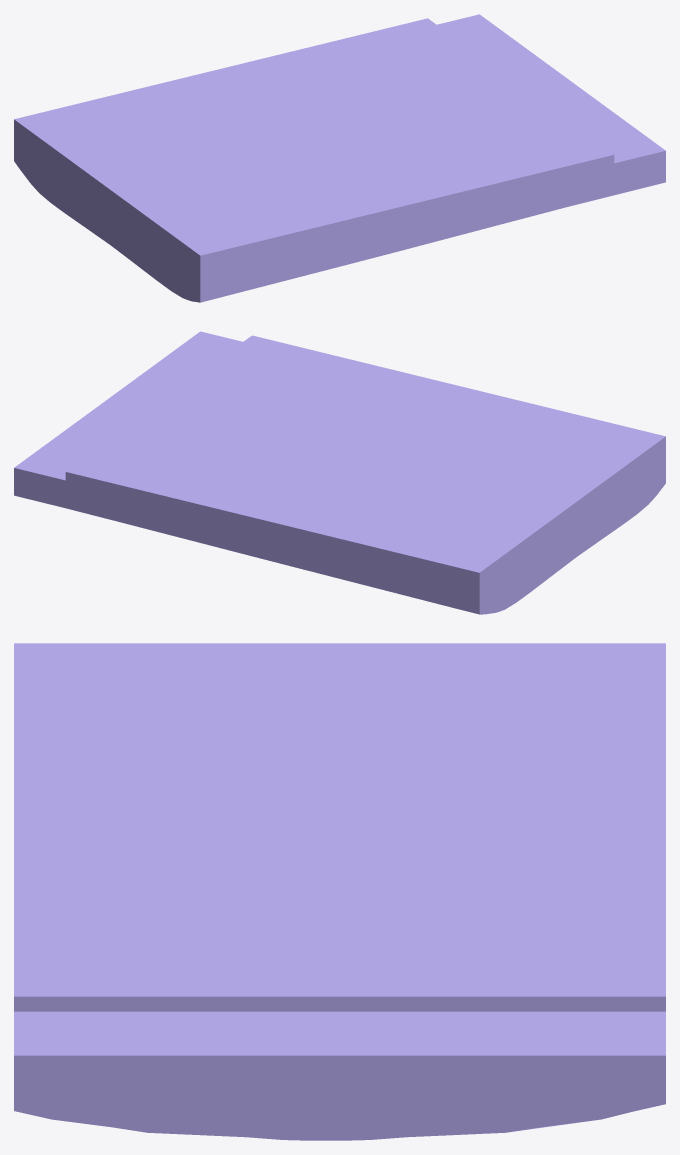
File: RemoteCover.fbx
3 views of the same model, one above another, from view 1: azimuth 30°, elevation 25°; view 2: azimuth 150°, elevation 25°; view 3: azimuth 270°, elevation 25° (orthographic). The views are drawn at different scales.
Parts seen in each view (by area): view 1: 盖子; view 2: 盖子; view 3: 盖子.
Part boxes in pixels (box(x1,y1,x2,y2)): 盖子: box(14, 14, 665, 302); 盖子: box(14, 331, 665, 614); 盖子: box(14, 643, 665, 1140).
Size of the model in its own units: 288 by 200 by 34.09.
